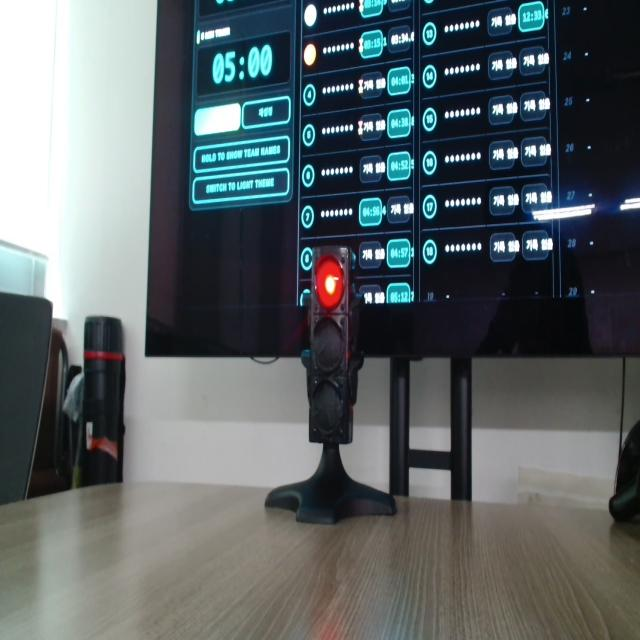red_light: (316, 256, 343, 310)
